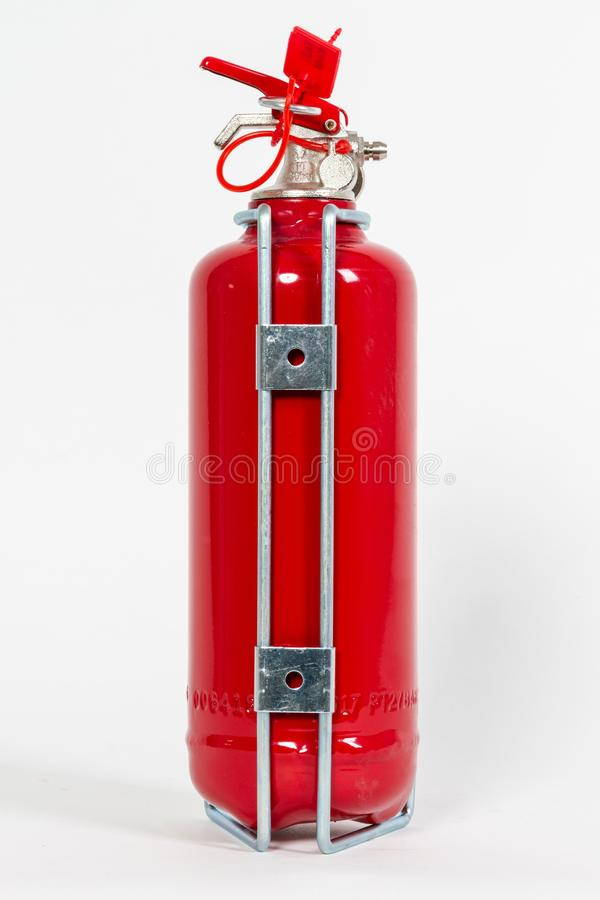fire_extinguisher: (186, 25, 420, 853)
